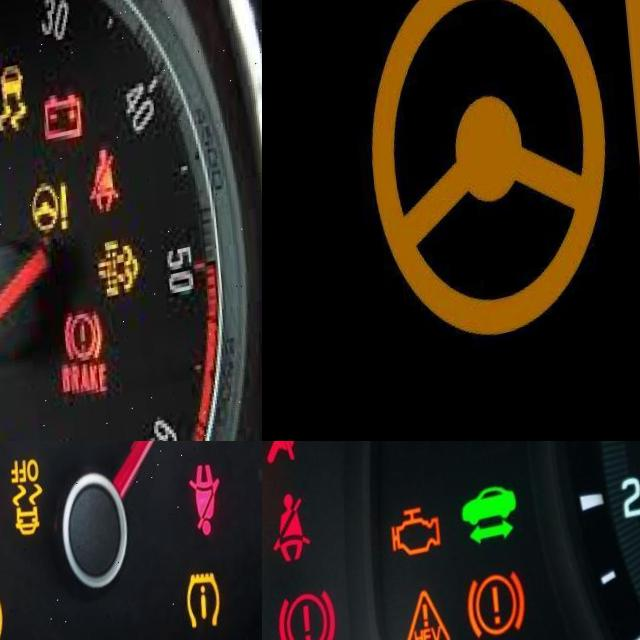Electronic Power Steering: (353, 0, 640, 367)
Electronic Power Steering Warning: (21, 193, 70, 254)
Seat Belt: (182, 478, 220, 558), (266, 501, 304, 572), (85, 160, 113, 230)
